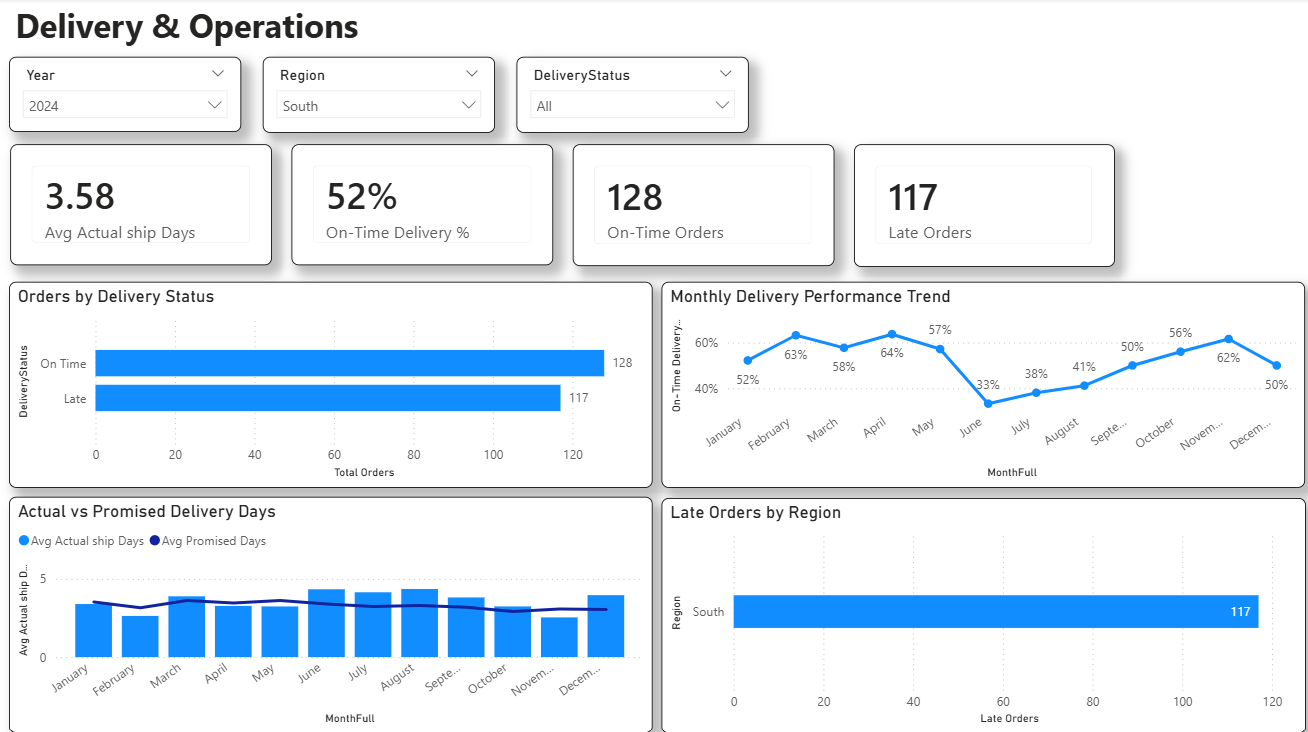

This screenshot's page, from the dashboard's own definition file:
{"tool":"powerbi","page":{"name":"Delivery & Operations","canvas":[1280,720],"ordinal":4},"visuals":[{"type":"textbox","box":[10.6,0,549.1,57.6],"z":0},{"type":"slicer","fields":{"Values":["Dim_Date.Year"]},"box":[9.9,57.6,227.4,73.9],"z":1000},{"type":"slicer","fields":{"Values":["Dim_Region.Region"]},"box":[258.2,57.6,227.5,74.3],"z":2000},{"type":"slicer","fields":{"Values":["Fact_Sales_Clean.DeliveryStatus"]},"box":[506.7,57.6,227.5,74.3],"z":3000},{"type":"cardVisual","fields":{"Data":["_Measures.Avg Actual ship Days"]},"box":[10.6,143.5,256.4,118.3],"z":4000},{"type":"cardVisual","fields":{"Data":["_Measures.On - Time Delivery %"]},"box":[285.9,143.5,256.4,118.3],"z":5000},{"type":"cardVisual","fields":{"Data":["_Measures.On-Time Orders"]},"box":[561.2,143.5,255.8,119.4],"z":6000},{"type":"cardVisual","fields":{"Data":["_Measures.Late Orders"]},"box":[835.8,143.5,254.8,119.8],"z":7000},{"type":"clusteredBarChart","title":"Orders by Delivery Status","fields":{"Category":["Fact_Sales_Clean.DeliveryStatus"],"Y":["_Measures.Total Orders"]},"box":[9.6,277.2,629.8,201.7],"z":8000},{"type":"lineChart","title":"Monthly Delivery Performance Trend","fields":{"Category":["Dim_Date.MonthFull"],"Y":["_Measures.On - Time Delivery %"]},"box":[647.7,277.2,629.8,201.7],"z":9000},{"type":"lineClusteredColumnComboChart","title":"Actual vs Promised Delivery Days","fields":{"Category":["Dim_Date.MonthFull"],"Y":["_Measures.Avg Actual ship Days"],"Y2":["_Measures.Avg Promised Days"]},"box":[9.6,488.5,629.8,231.9],"z":10000},{"type":"clusteredBarChart","fields":{"Category":["Dim_Region.Region"],"Y":["_Measures.Late Orders"]},"box":[648,489,630,231],"z":11000}]}

Visuals, with their boxes in screenshot pixels (x1, y1, x2, y2), scaled from the page's 1280x720 canvas onto the 1308x732 screenshot:
textbox: Rect(11, 0, 572, 59)
slicer - Dim_Date.Year: Rect(10, 59, 242, 134)
slicer - Dim_Region.Region: Rect(264, 59, 496, 134)
slicer - Fact_Sales_Clean.DeliveryStatus: Rect(518, 59, 750, 134)
cardVisual - _Measures.Avg Actual ship Days: Rect(11, 146, 273, 266)
cardVisual - _Measures.On - Time Delivery %: Rect(292, 146, 554, 266)
cardVisual - _Measures.On-Time Orders: Rect(573, 146, 835, 267)
cardVisual - _Measures.Late Orders: Rect(854, 146, 1114, 268)
"Orders by Delivery Status" clusteredBarChart: Rect(10, 282, 653, 487)
"Monthly Delivery Performance Trend" lineChart: Rect(662, 282, 1305, 487)
"Actual vs Promised Delivery Days" lineClusteredColumnComboChart: Rect(10, 497, 653, 731)
clusteredBarChart - Dim_Region.Region x _Measures.Late Orders: Rect(662, 497, 1306, 731)
